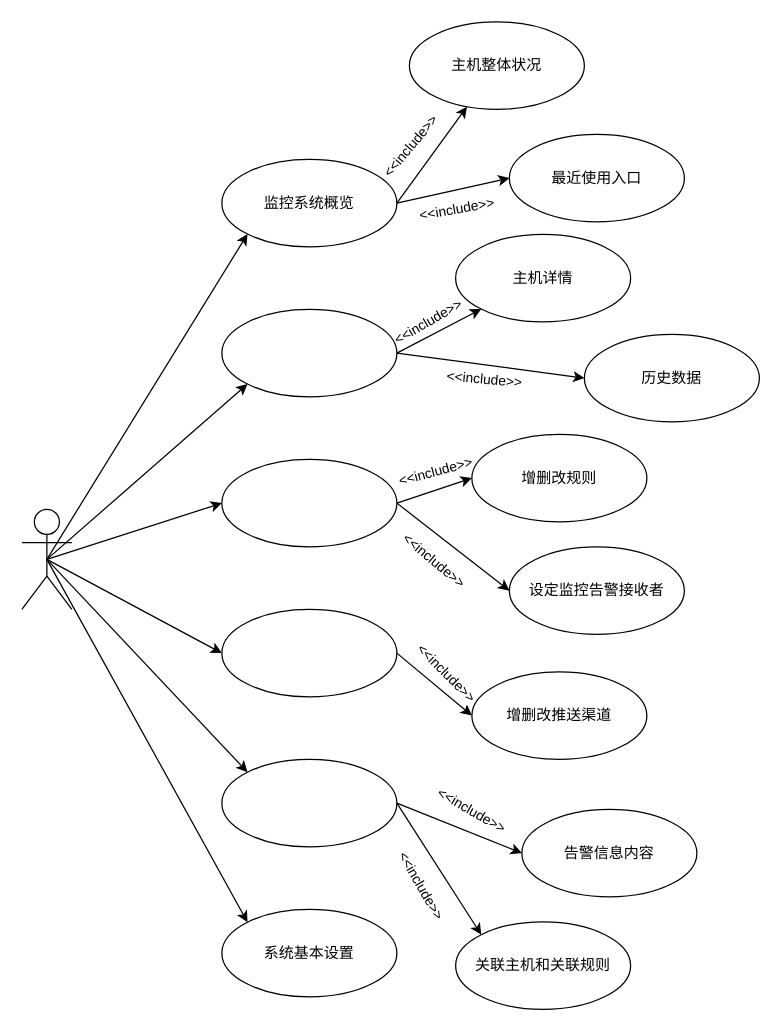
Some shapes in this 781 by 1031 pixel diagram are drawn without their labels. The shapes that lost their labels are listed below. From the top down, each one's centre as x and y in pixels, then its label:
At point (309, 352): "主机列表".
At point (309, 502): "监控规则管理".
At point (46, 558): "管理员".
At point (309, 652): "告警推送管理".
At point (309, 802): "告警历史".
